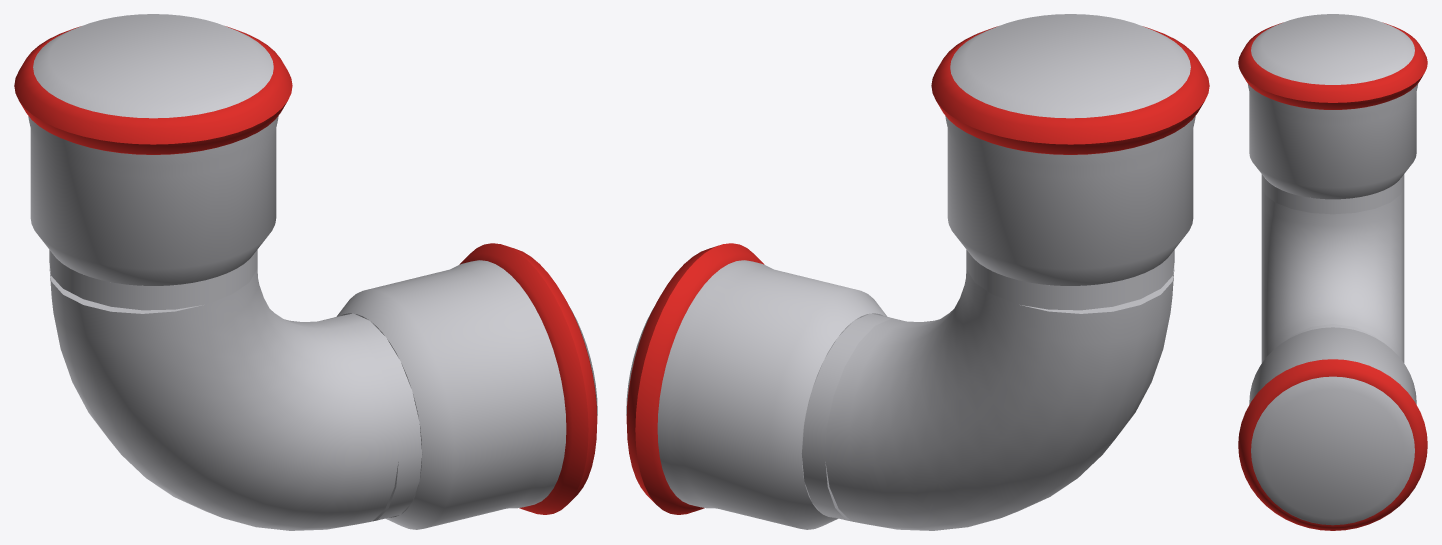
Rendered from fitting_e90_28_r.glb.
3 views of the same model, side by side, from view 1: azimuth 30°, elevation 25°; view 2: azimuth 150°, elevation 25°; view 3: azimuth 270°, elevation 25° (orthographic). The views are drawn at different scales.
Visible parts, largest first — view 1: изгиб, раструб.001, раструб, кольцо пресс.001, кольцо пресс, корпус.001, корпус; view 2: изгиб, раструб.001, раструб, кольцо пресс.001, кольцо пресс, корпус.001, корпус; view 3: раструб, раструб.001, изгиб, кольцо пресс, кольцо пресс.001, корпус.001, корпус.
Boxes of the visible parts, <box> form: изгиб: <box>49,266,398,530</box>; раструб.001: <box>28,14,278,285</box>; раструб: <box>336,260,597,529</box>; кольцо пресс.001: <box>14,26,292,154</box>; кольцо пресс: <box>459,243,597,514</box>; корпус.001: <box>49,250,257,310</box>; корпус: <box>323,313,422,521</box>; изгиб: <box>825,266,1174,530</box>; раструб.001: <box>945,14,1195,285</box>; раструб: <box>626,260,887,529</box>; кольцо пресс.001: <box>931,26,1209,154</box>; кольцо пресс: <box>626,243,764,514</box>; корпус.001: <box>966,250,1174,310</box>; корпус: <box>801,313,900,521</box>; раструб: <box>1249,327,1416,525</box>; раструб.001: <box>1247,14,1418,199</box>; изгиб: <box>1261,186,1404,362</box>; кольцо пресс: <box>1238,359,1427,530</box>; кольцо пресс.001: <box>1238,22,1427,109</box>; корпус.001: <box>1261,174,1404,214</box>; корпус: <box>1287,324,1378,339</box>.
Size of the model in its own units: 0.0876 by 0.0876 by 0.0412.
